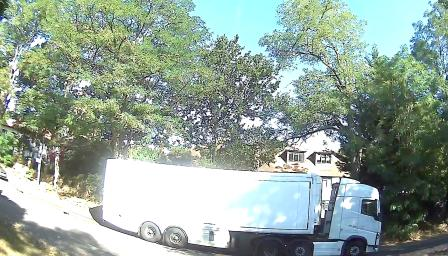Cars: (103, 158, 381, 256)
